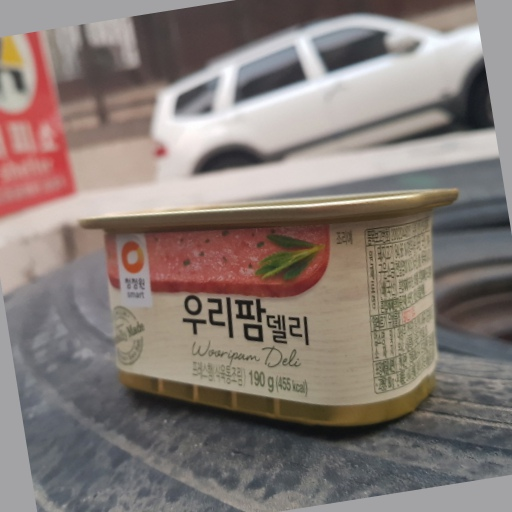Metal_2: (77, 193, 458, 427)
